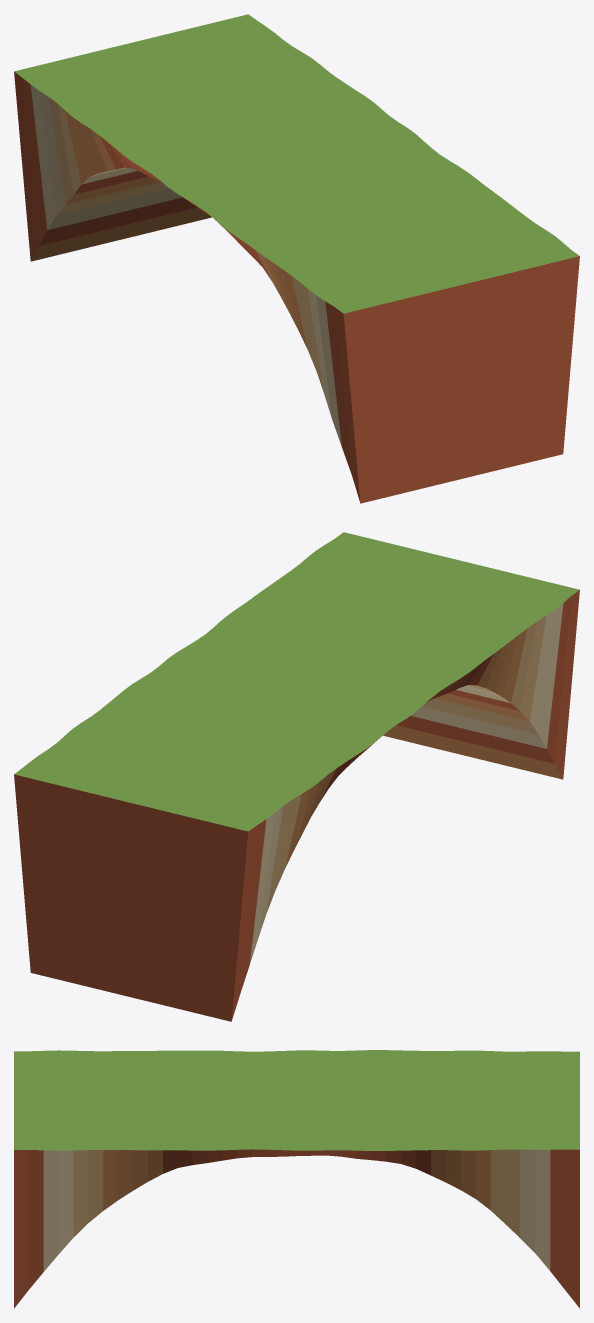
The model's file is ponte_00d2.glb.
The picture shows the model from 3 angles, top to bottom: view 1: azimuth 30°, elevation 25°; view 2: azimuth 150°, elevation 25°; view 3: azimuth 270°, elevation 25°; orthographic projection. The views are drawn at different scales.
Parts seen in each view (by area): view 1: ponte_00d2; view 2: ponte_00d2; view 3: ponte_00d2.
Boxes of the visible parts, x1,y1,x2,y2 form: ponte_00d2: (14,14,579,503); ponte_00d2: (14,532,579,1021); ponte_00d2: (14,1050,579,1308).
Size of the model in its own units: 64.92 by 49.79 by 154.
